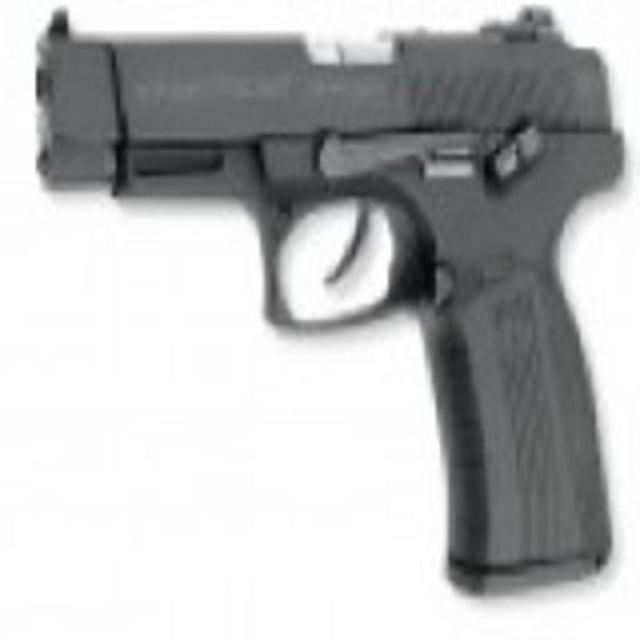pistol: (40, 5, 627, 602)
